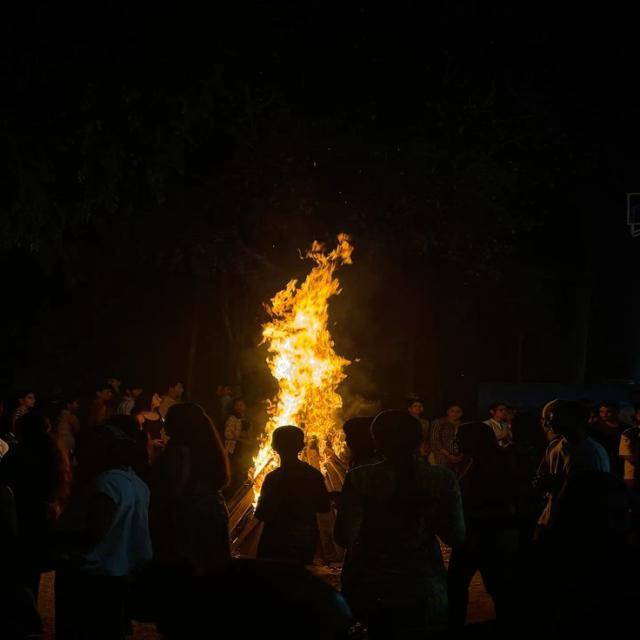fire: (250, 236, 359, 496)
